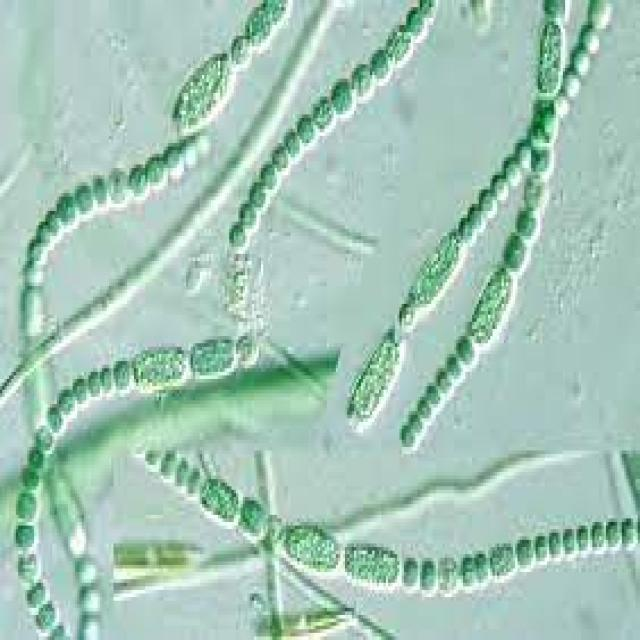Blue Green Algae: (238, 490, 268, 543), (574, 18, 604, 57), (524, 143, 556, 179), (331, 71, 354, 118), (11, 486, 41, 522), (499, 236, 529, 272), (350, 60, 374, 104), (54, 186, 80, 225), (515, 207, 540, 247), (454, 332, 479, 372), (229, 29, 254, 68), (311, 90, 334, 132), (22, 579, 48, 615), (515, 529, 538, 569), (386, 25, 411, 61), (161, 143, 186, 179), (522, 178, 547, 214), (502, 150, 524, 190), (402, 550, 422, 594), (570, 43, 592, 82), (270, 140, 293, 176), (488, 168, 511, 204), (420, 551, 438, 597), (404, 7, 429, 39), (284, 121, 304, 161), (227, 218, 252, 250), (143, 154, 168, 186), (73, 178, 95, 214), (32, 418, 54, 454), (12, 522, 36, 554), (127, 164, 150, 197), (297, 110, 318, 146), (88, 172, 109, 208), (247, 179, 270, 211), (68, 376, 91, 408), (43, 400, 66, 432), (25, 444, 48, 476), (111, 358, 132, 393), (25, 236, 50, 265), (370, 46, 390, 82), (477, 182, 497, 218), (472, 543, 490, 583), (604, 515, 622, 554), (534, 526, 552, 565), (32, 601, 57, 629), (422, 376, 443, 408), (84, 368, 104, 401), (159, 447, 177, 483), (466, 200, 484, 236), (560, 522, 578, 558), (236, 197, 259, 225), (43, 204, 66, 232), (561, 68, 581, 100), (590, 515, 606, 554), (55, 390, 77, 418), (549, 522, 563, 565), (433, 365, 454, 393), (461, 547, 476, 586), (259, 158, 277, 190), (184, 462, 202, 494), (620, 514, 636, 550), (574, 522, 590, 558), (264, 512, 282, 544), (18, 465, 41, 490), (406, 404, 424, 433), (397, 418, 415, 447), (445, 354, 463, 379), (98, 364, 114, 390), (416, 397, 432, 418)
